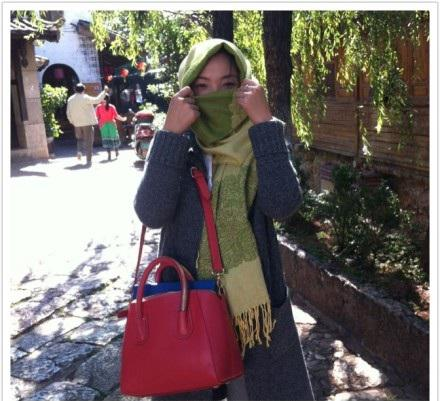OK: (189, 67, 243, 121)
